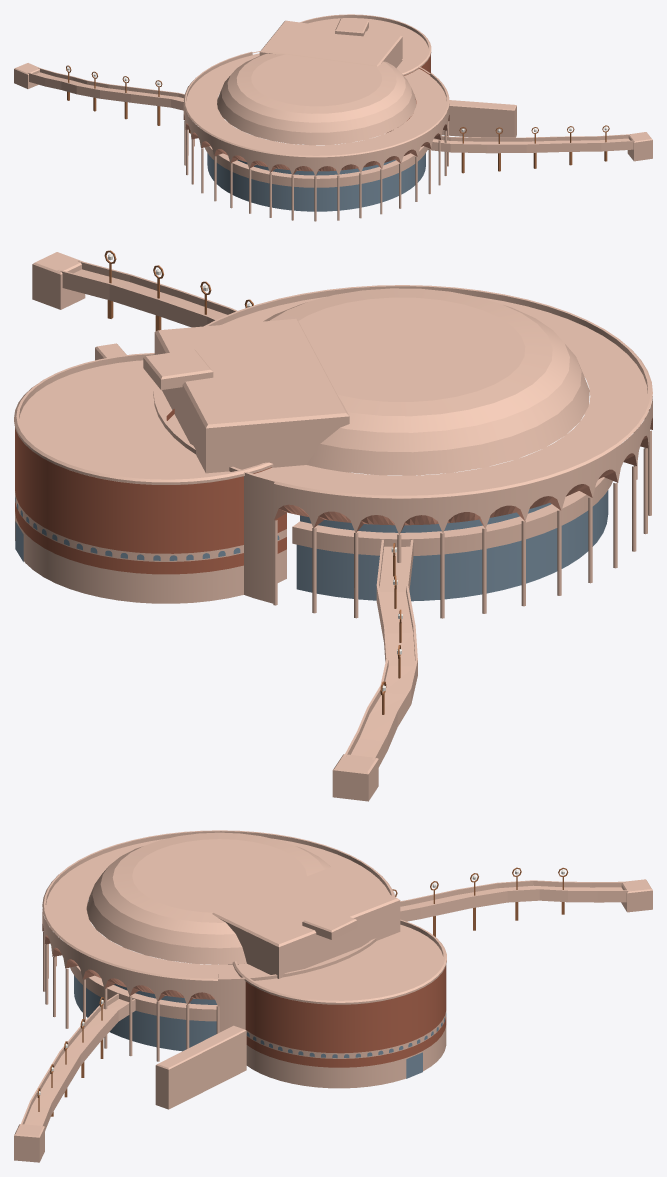
Rendered from phx-asu-gammage.glb.
3 renders of one model, top to bottom at view 1: azimuth 30°, elevation 25°; view 2: azimuth 150°, elevation 25°; view 3: azimuth 270°, elevation 25°, orthographic. The views are drawn at different scales.
Visible parts, largest first — view 1: ASU Gammage; view 2: ASU Gammage; view 3: ASU Gammage.
Boxes of the visible parts, x1,y1,x2,y2 form: ASU Gammage: [14, 14, 652, 221]; ASU Gammage: [14, 250, 652, 801]; ASU Gammage: [14, 830, 652, 1162].
Bounding box in the file's own units: 128 × 27.7 × 132.
